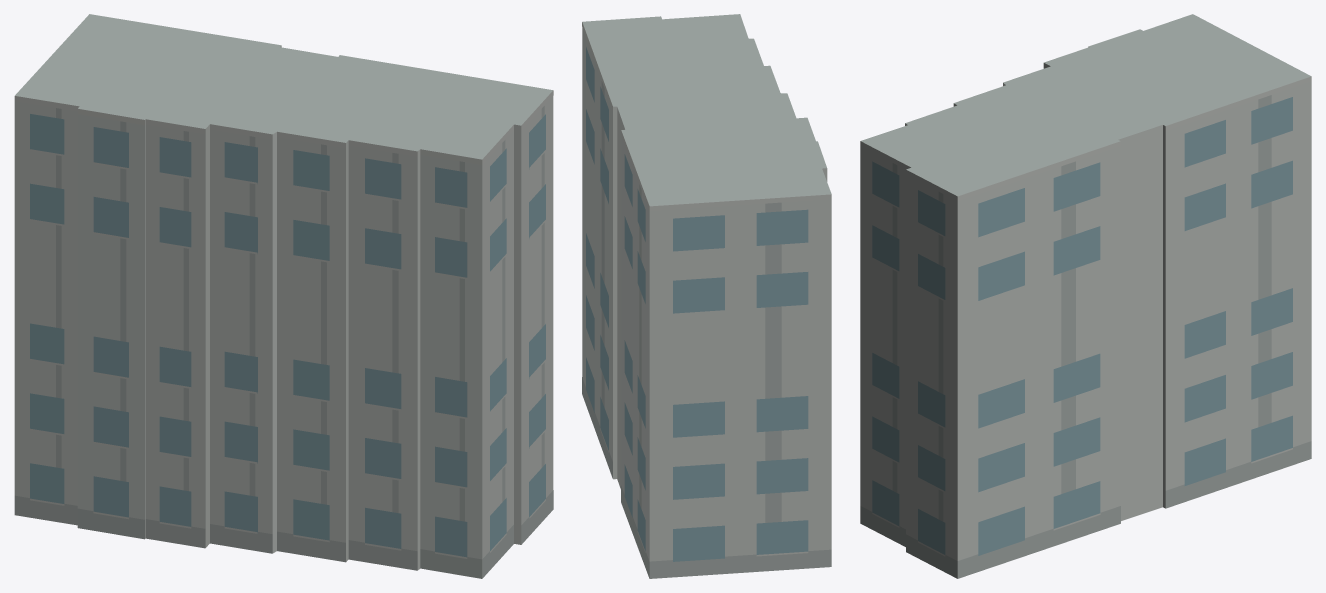
Rendered from survey-upis-32916178.glb.
The picture shows the model from 3 angles, left to right: view 1: azimuth 30°, elevation 25°; view 2: azimuth 150°, elevation 25°; view 3: azimuth 270°, elevation 25°; orthographic projection. The views are drawn at different scales.
Visible parts, largest first — view 1: survey-upis-32916178.tmp; view 2: survey-upis-32916178.tmp; view 3: survey-upis-32916178.tmp.
Boxes of the visible parts, bbox=[...] form: survey-upis-32916178.tmp: bbox=[14, 14, 553, 578]; survey-upis-32916178.tmp: bbox=[582, 14, 831, 578]; survey-upis-32916178.tmp: bbox=[860, 14, 1311, 578].
Bounding box in the file's own units: 19.14 × 18.7 × 20.
